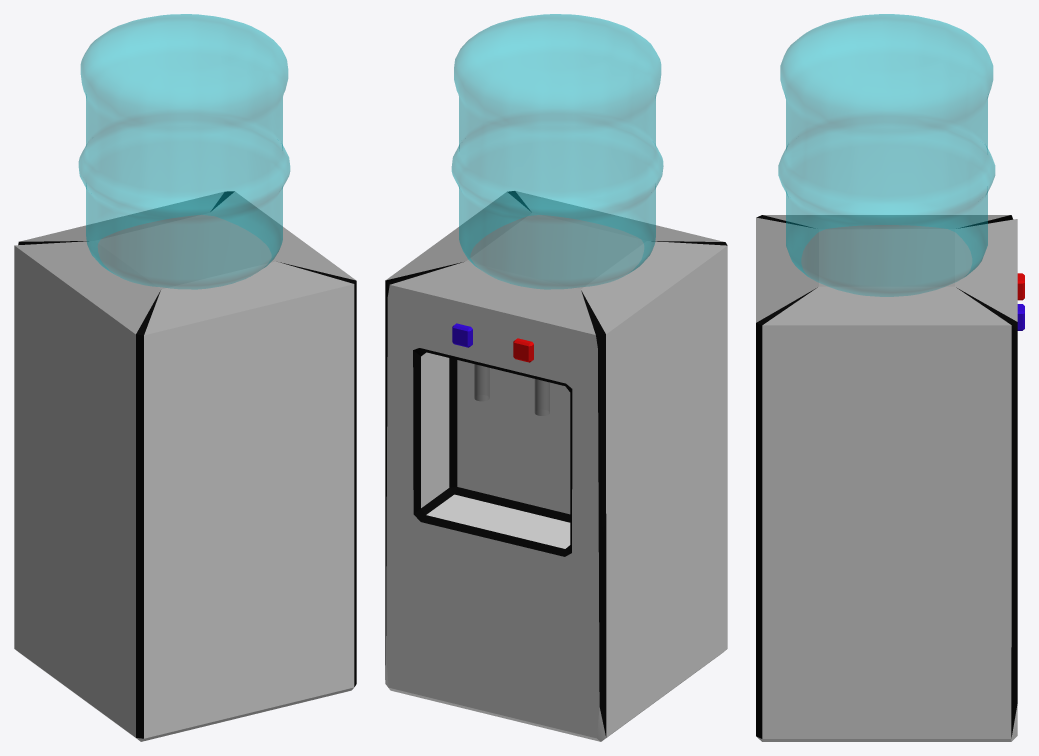
Rendered from water.fbx.
3 renders of one model, left to right at view 1: azimuth 30°, elevation 25°; view 2: azimuth 150°, elevation 25°; view 3: azimuth 270°, elevation 25°, orthographic. The views are drawn at different scales.
Parts seen in each view (by area): view 1: pCube19, pCylinder7; view 2: pCube19, pCylinder7, pCylinder6, pCylinder5; view 3: pCube19, pCylinder7.
Boxes of the visible parts, x1=… form: pCube19: x1=14, y1=191, x2=356, y2=741; pCylinder7: x1=78, y1=14, x2=290, y2=289; pCube19: x1=385, y1=191, x2=727, y2=741; pCylinder7: x1=451, y1=14, x2=663, y2=289; pCylinder6: x1=474, y1=364, x2=489, y2=401; pCylinder5: x1=534, y1=379, x2=549, y2=415; pCube19: x1=756, y1=215, x2=1017, y2=741; pCylinder7: x1=778, y1=14, x2=995, y2=296.
Size of the model in its own units: 3.26 by 8.85 by 3.35.
